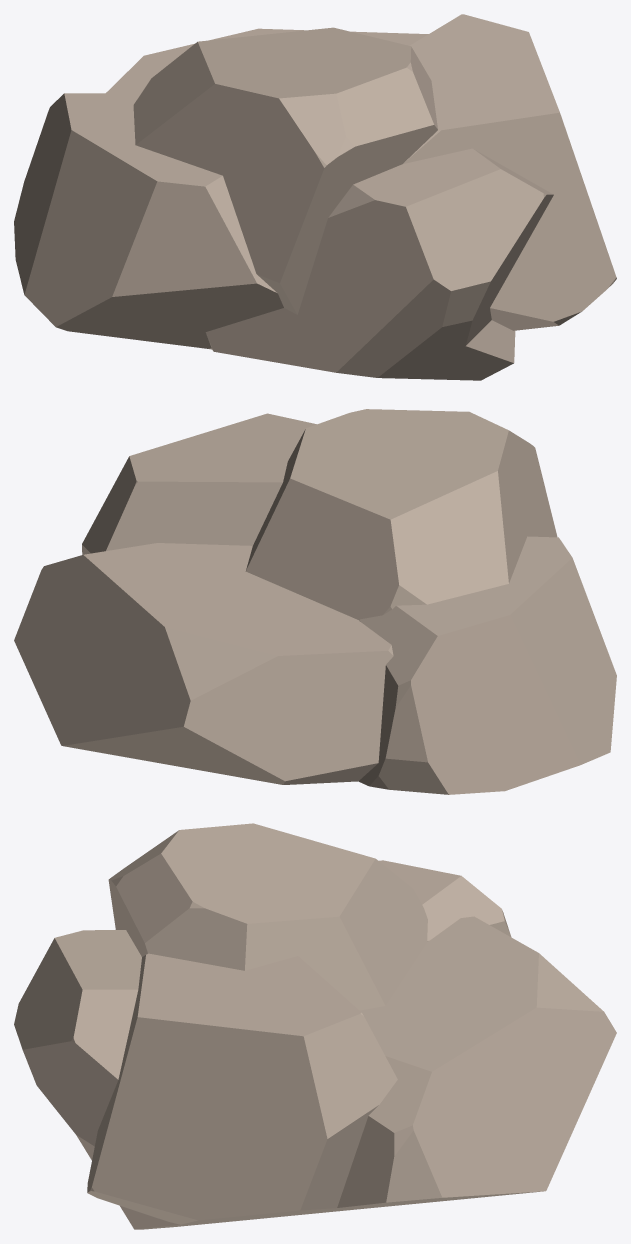
Rendered from ForestRockCluster2.glb.
3 views of the same model, one above another, from view 1: azimuth 30°, elevation 25°; view 2: azimuth 150°, elevation 25°; view 3: azimuth 270°, elevation 25° (orthographic). The views are drawn at different scales.
Parts seen in each view (by area): view 1: ForestRockCluster2; view 2: ForestRockCluster2; view 3: ForestRockCluster2.
Part boxes in pixels (left/top/right/bottom): ForestRockCluster2: left=14, top=14, right=616, bottom=380; ForestRockCluster2: left=14, top=409, right=616, bottom=794; ForestRockCluster2: left=14, top=823, right=616, bottom=1229.
Size of the model in its own units: 8.18 by 4.7 by 8.18.
